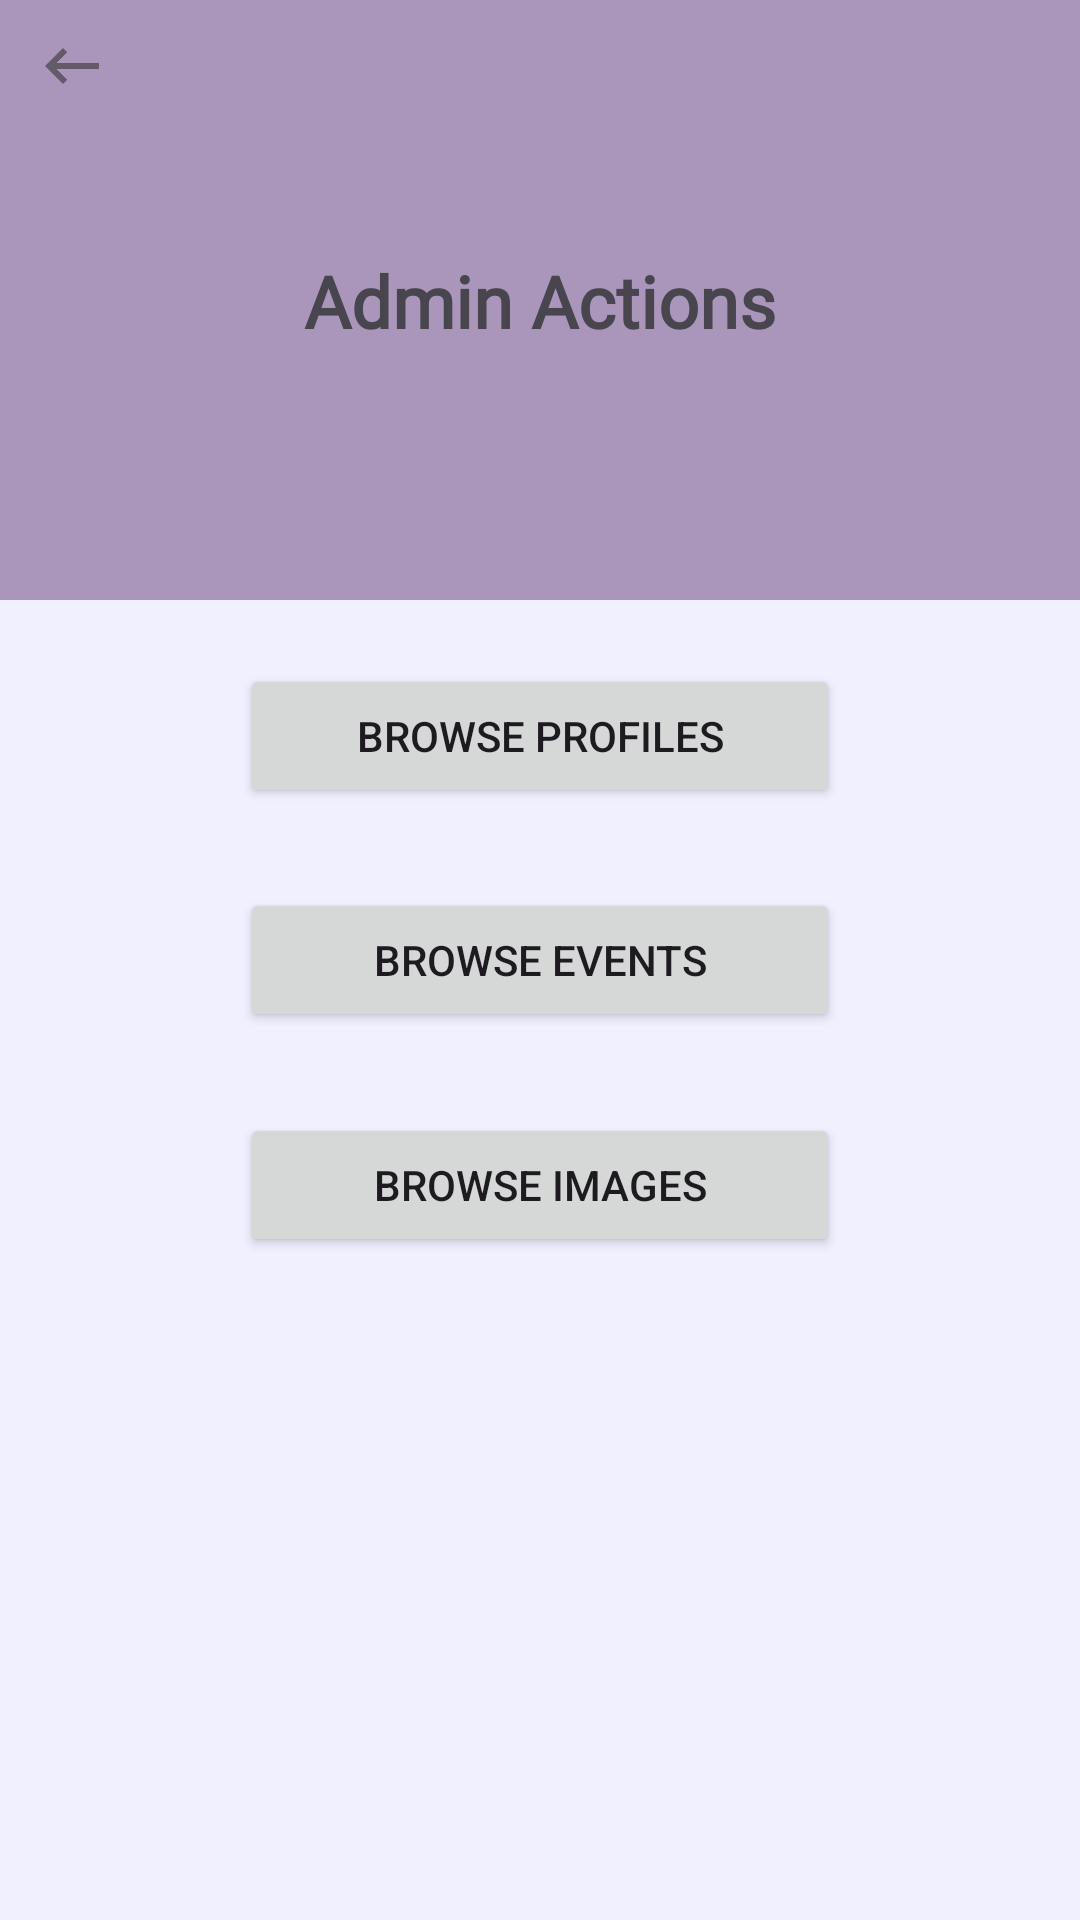

Where to tap for icons on this 1080px×1920px app screen, as (x=x, y=y):
back: (x=72, y=66)
